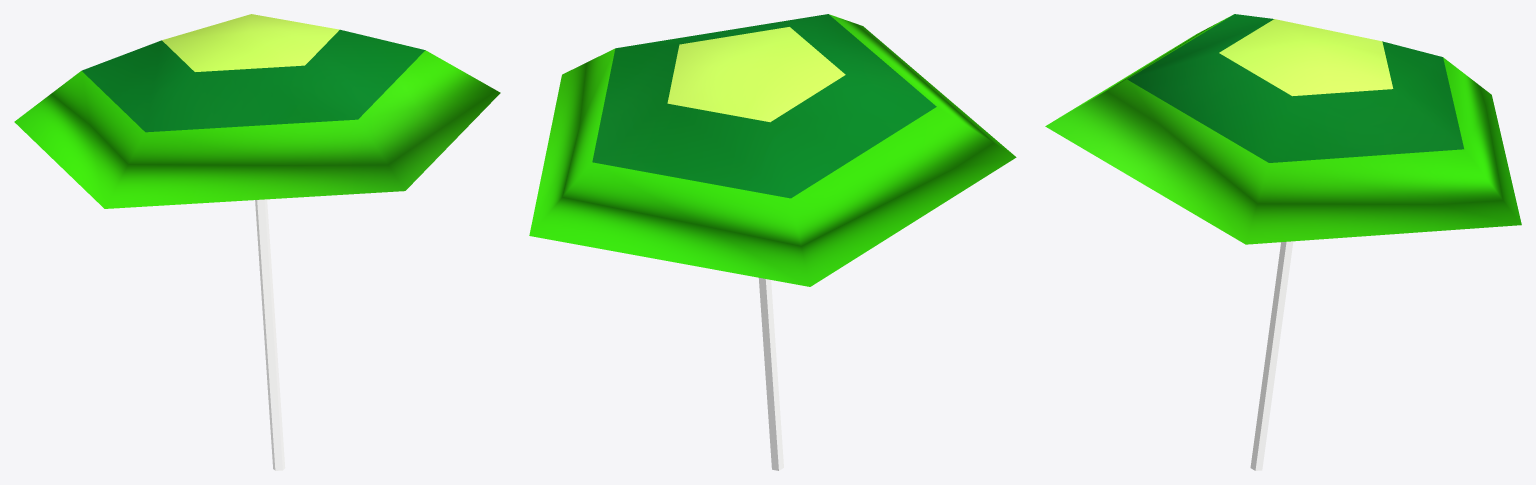
The model's file is BeachUmbrellaGreen.glb.
3 views of the same model, side by side, from view 1: azimuth 30°, elevation 25°; view 2: azimuth 150°, elevation 25°; view 3: azimuth 270°, elevation 25° (orthographic). The views are drawn at different scales.
Parts seen in each view (by area): view 1: BeachUmbrellaGreen; view 2: BeachUmbrellaGreen; view 3: BeachUmbrellaGreen.
Boxes of the visible parts, x1,y1,x2,y2 form: BeachUmbrellaGreen: (14,14,500,470); BeachUmbrellaGreen: (529,14,1016,470); BeachUmbrellaGreen: (1045,14,1521,470).
Size of the model in its own units: 2.41 by 2.28 by 2.35.
Materials: 1 (1 with a texture image).
